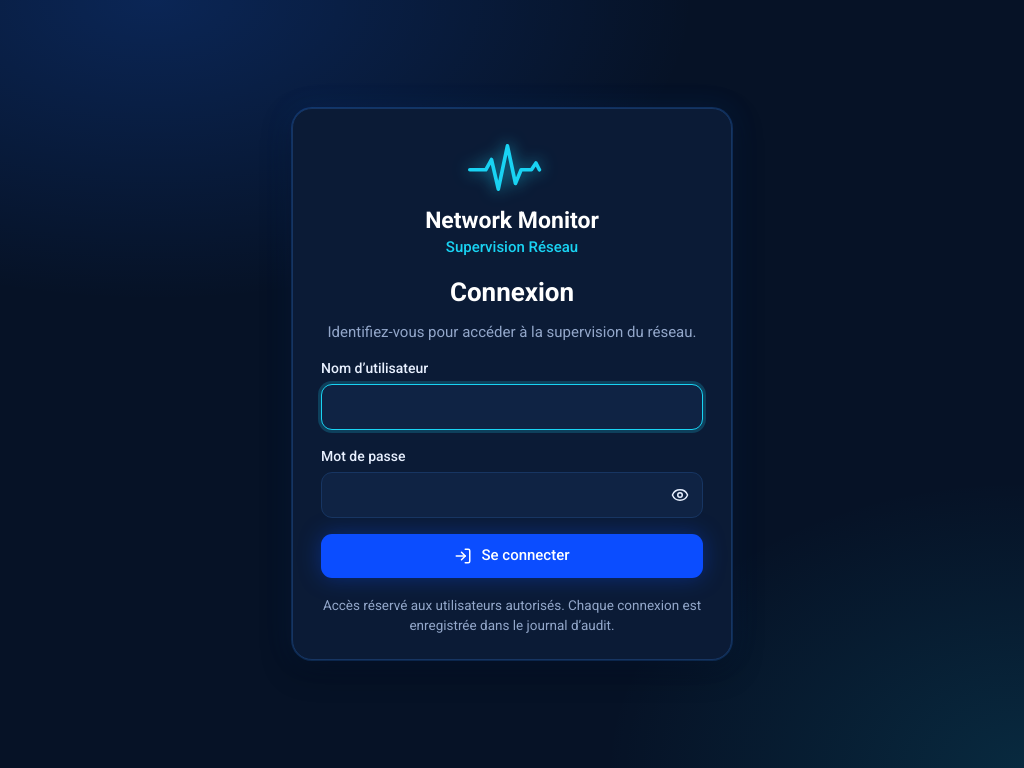
Scenario: connexion › affiche le message du serveur pour des identifiants invalides
In the field labelled "Nom d’utilisateur": (512, 407) [321, 384, 703, 430], type "admin"
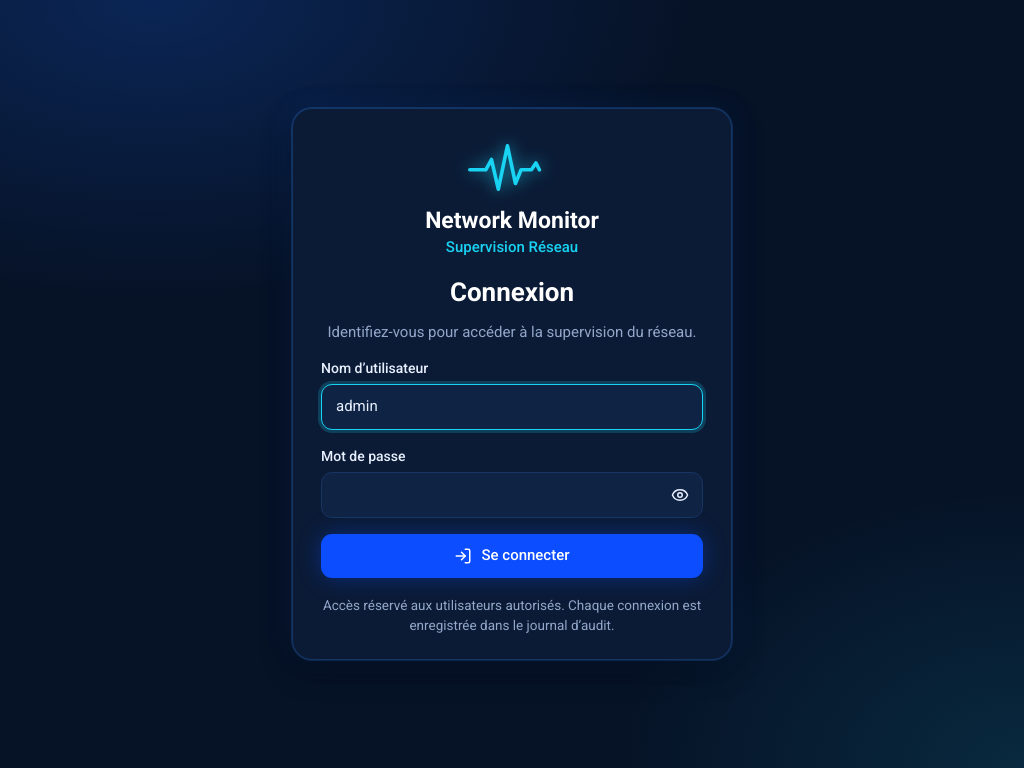
In the password field labelled "Mot de passe": (512, 495) [321, 472, 703, 518], type "faux"
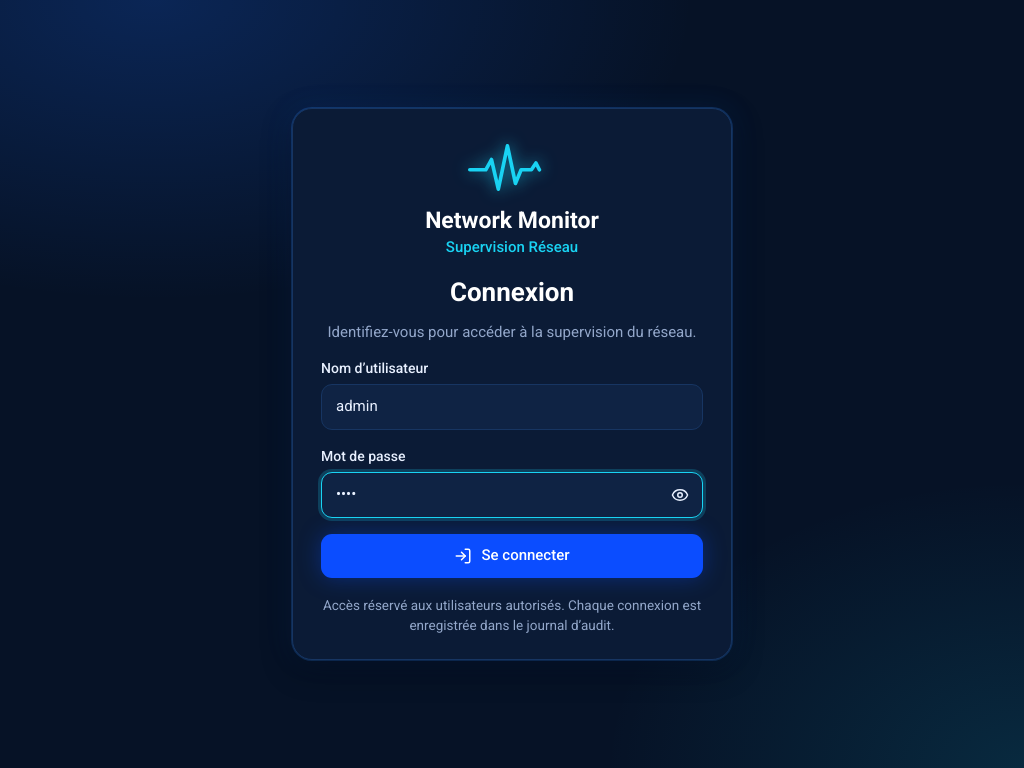
Click the button "Se connecter": (512, 556) [321, 534, 703, 578]
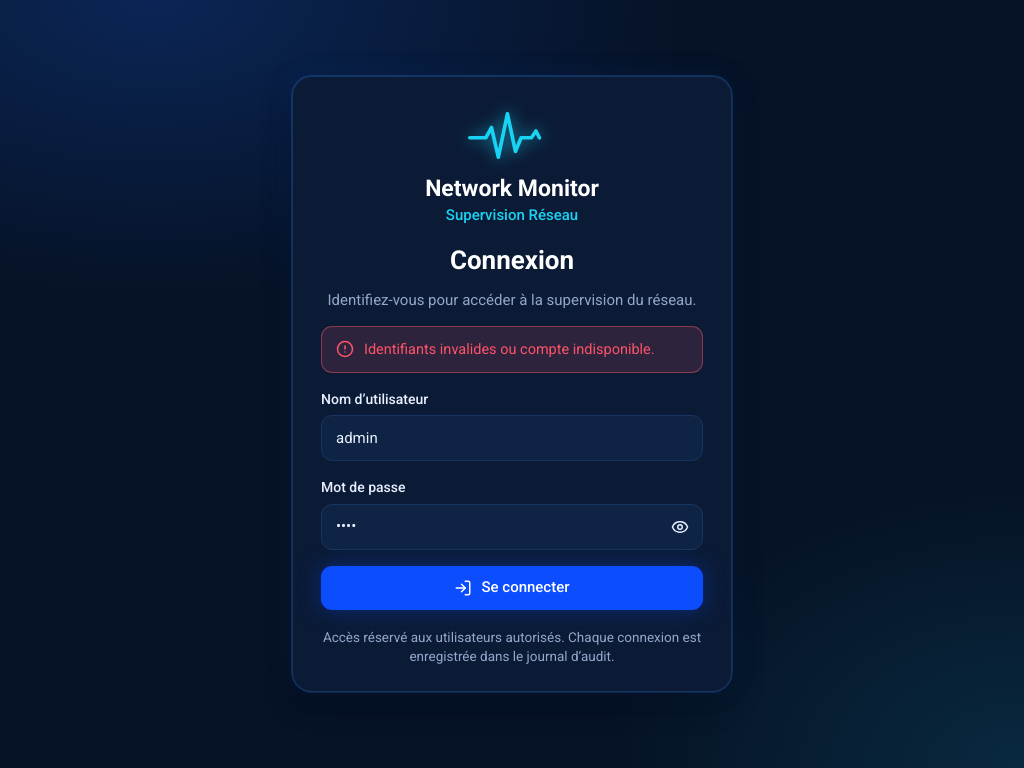
Expected: the message reads "Identifiants invalides ou compte indisponible.", [364, 341, 655, 358]
